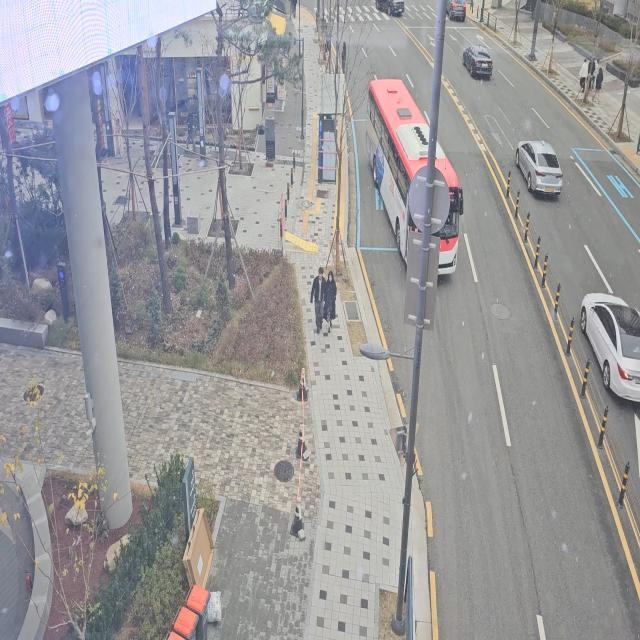Car: (568, 264, 640, 433), (501, 123, 571, 211), (461, 35, 496, 83), (436, 0, 476, 26), (373, 0, 412, 19)
Truck: (359, 65, 467, 307)
